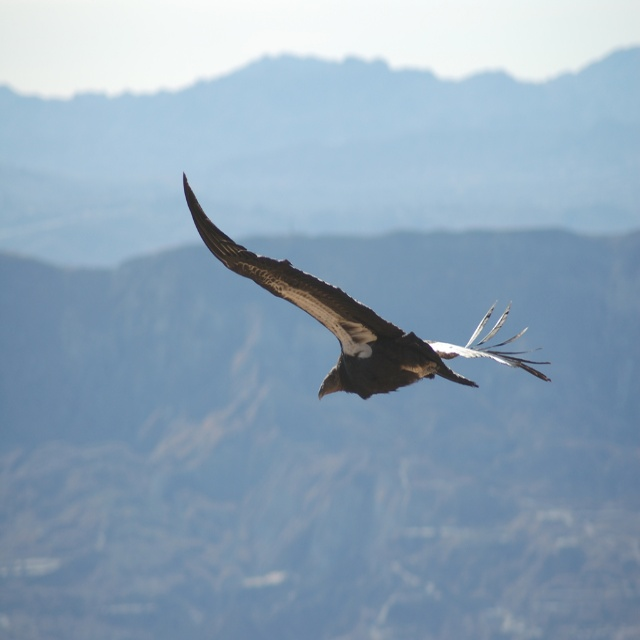Eagle: (181, 168, 555, 403)
